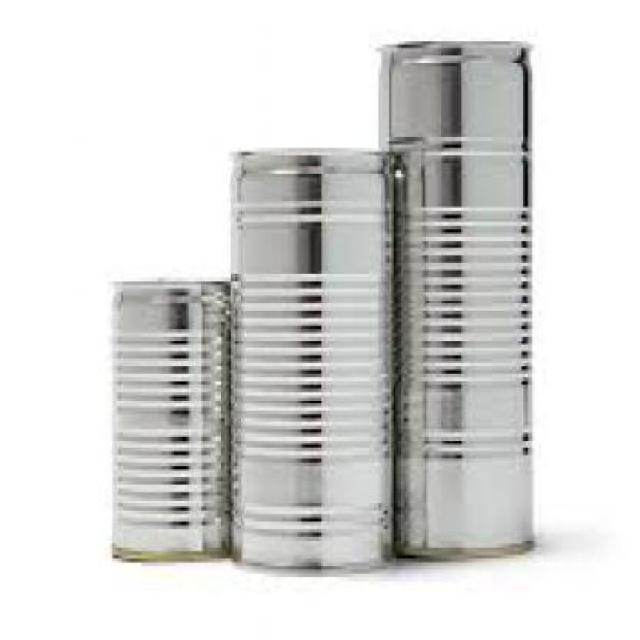metal: (373, 37, 534, 558), (229, 145, 394, 578), (111, 277, 234, 565)
